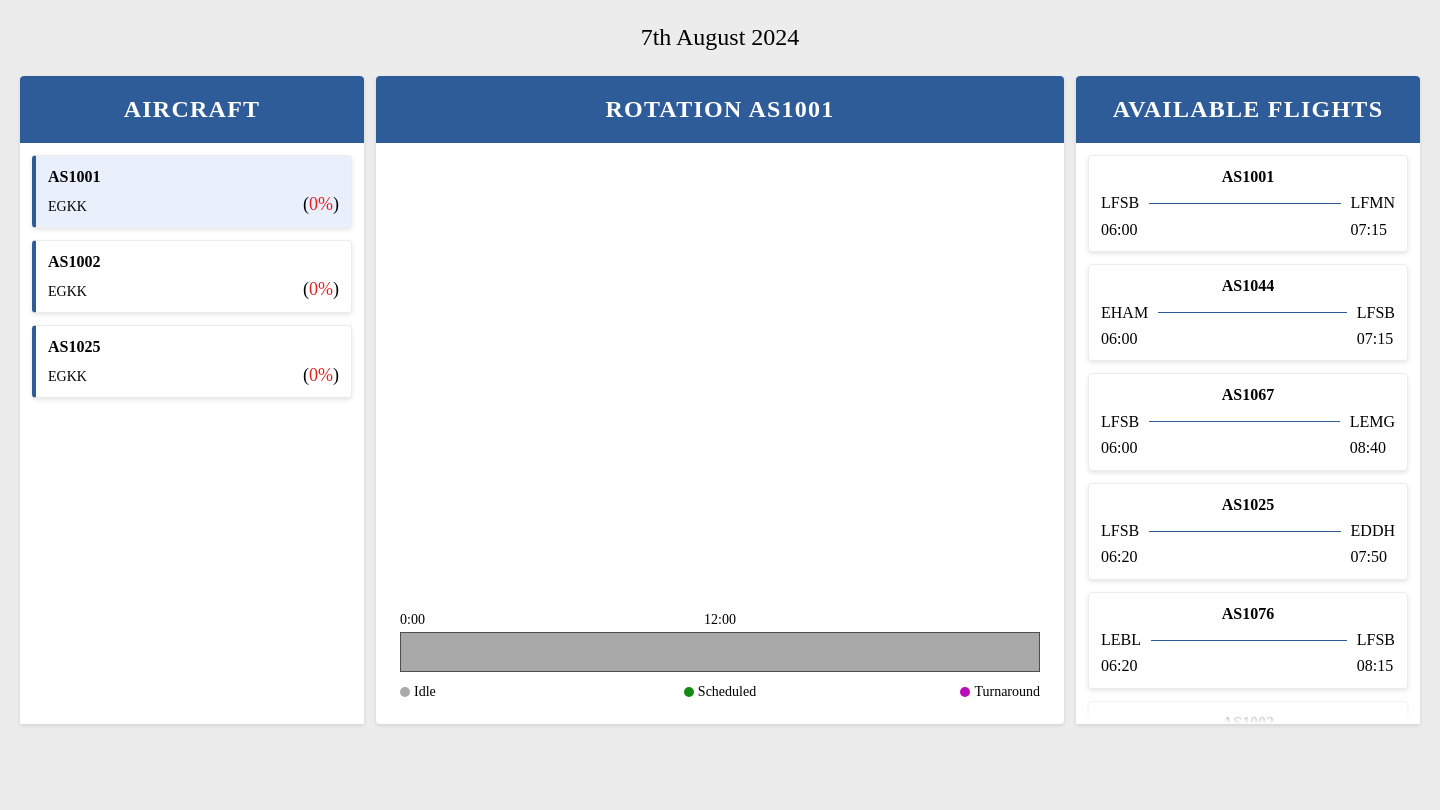
it: <Scheduler /> › Clicking on a flight should update flight list to show only valid flights
Click the button "AS1001 LFSB 06:00 LFMN 07:15": (1248, 176) [1088,155,1408,252]
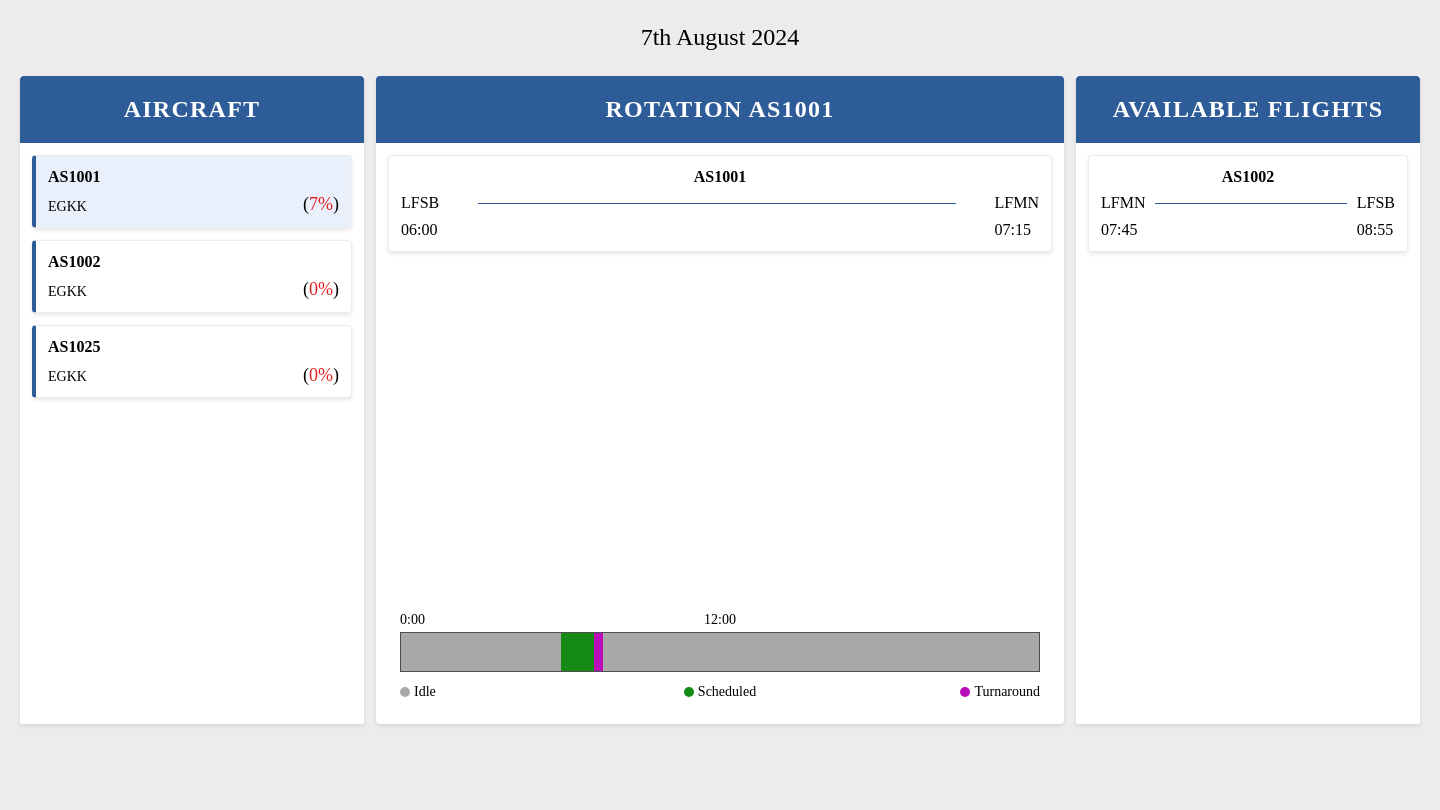
Check: the button "AS1002 LFMN 07:45 LFSB 08:55" is shown, box [1088,155,1408,252]
